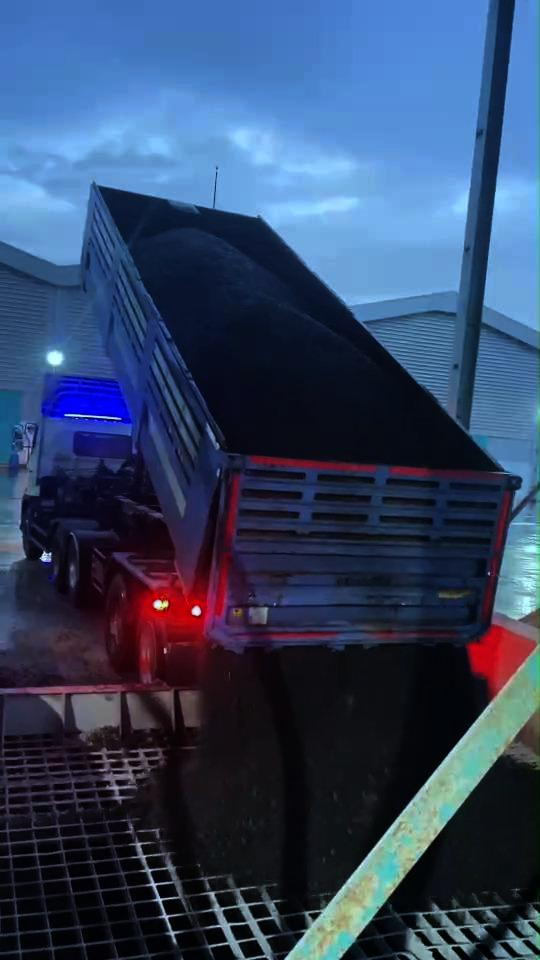gravel: (164, 646, 476, 895), (133, 229, 428, 465), (397, 754, 539, 908)
